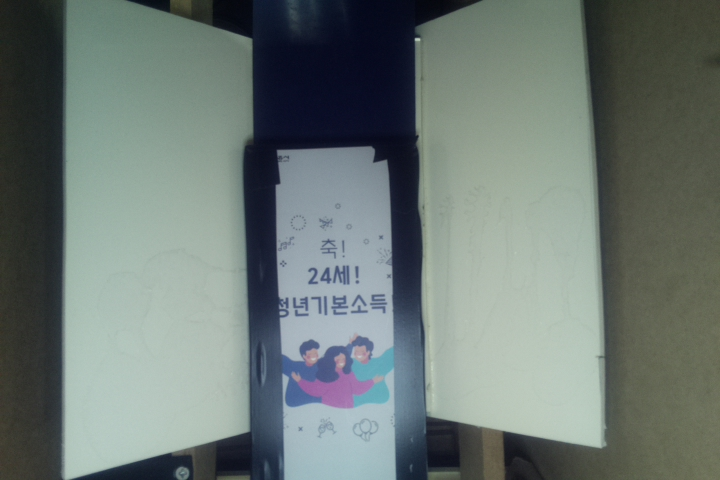book: (243, 136, 430, 480)
